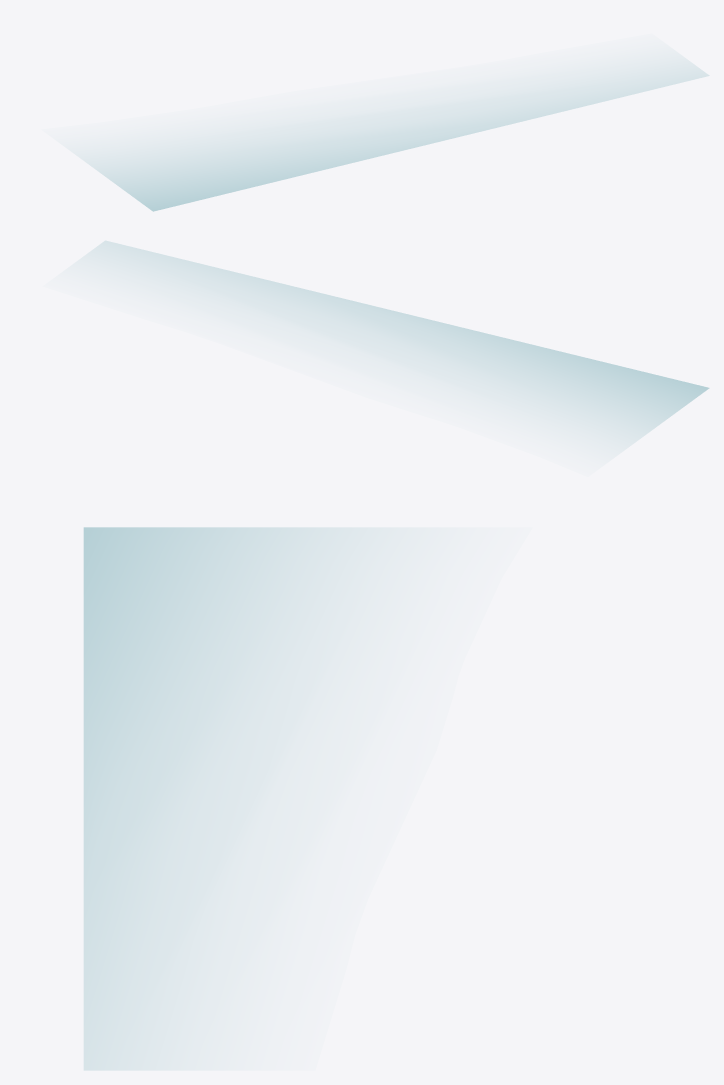
3 views of the same model, one above another, from view 1: azimuth 30°, elevation 25°; view 2: azimuth 150°, elevation 25°; view 3: azimuth 270°, elevation 25° (orthographic). The views are drawn at different scales.
Visible parts, largest first — view 1: city; view 2: city; view 3: city.
Part boxes in pixels (bbox=[...]): city: bbox=[81, 62, 708, 211]; city: bbox=[86, 241, 709, 445]; city: bbox=[83, 527, 374, 1070].
Bounding box in the file's own units: 500 × 0 × 216.
